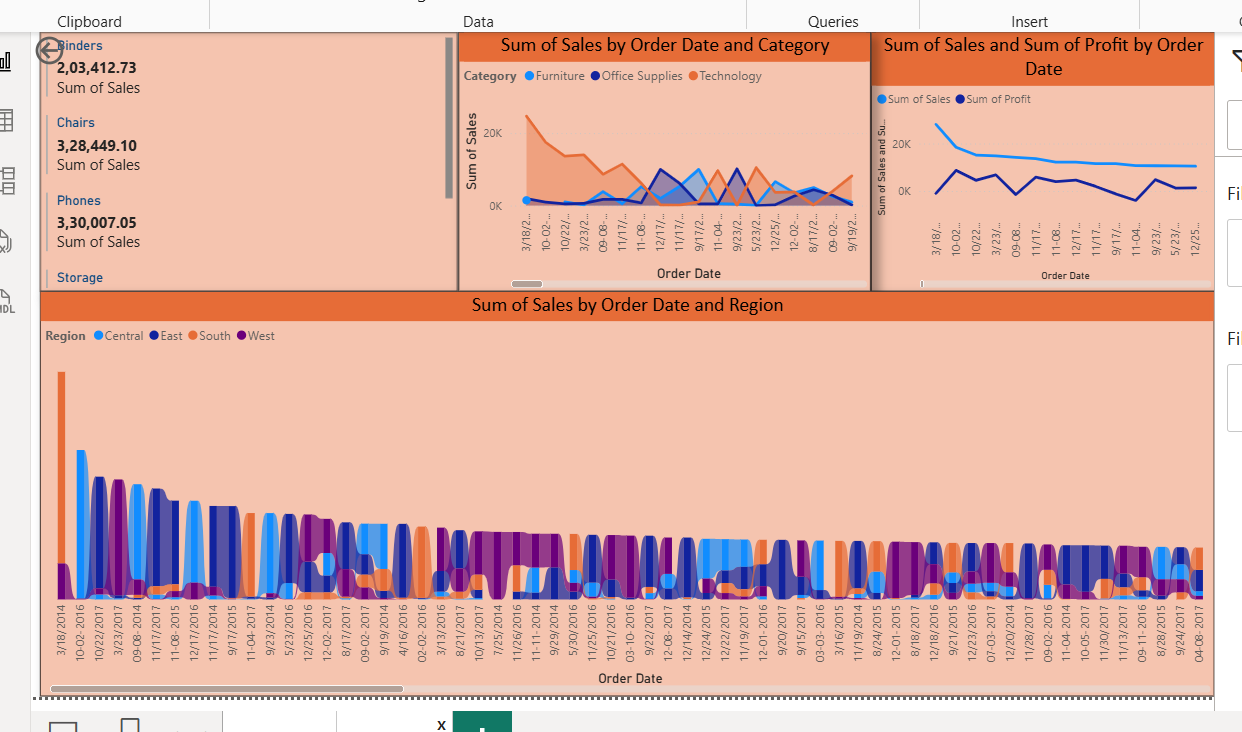

The page's visual inventory and layout, read from the dashboard file:
{"tool":"powerbi","page":{"name":"Page 2","canvas":[1280,720],"ordinal":1},"visuals":[{"type":"multiRowCard","fields":{"Values":["excel file.Sub-Category","Sum(excel file.Sales)"]},"box":[10,0,452.1,280.8],"z":0},{"type":"actionButton","box":[0,0,100,40],"z":1001},{"type":"lineChart","fields":{"Y":["Sum(excel file.Sales)","Sum(excel file.Profit)"],"Category":["excel file.Order Date"]},"box":[908.2,0,372.5,280.8],"z":1003},{"type":"areaChart","fields":{"Category":["excel file.Order Date"],"Series":["excel file.Category"],"Y":["Sum(excel file.Sales)"]},"box":[462.1,0,446.1,280.8],"z":1004},{"type":"ribbonChart","fields":{"Category":["excel file.Order Date"],"Y":["Sum(excel file.Sales)"],"Series":["excel file.Region"]},"box":[10,280.8,1270.7,438.2],"z":1005}]}

Visuals, with their boxes in screenshot pixels (x1, y1, x2, y2):
multiRowCard - excel file.Sub-Category x Sum(excel file.Sales): x1=38, y1=29, x2=456, y2=288
actionButton: x1=29, y1=29, x2=121, y2=66
lineChart - Sum(excel file.Sales) x Sum(excel file.Profit): x1=867, y1=29, x2=1211, y2=288
areaChart - excel file.Order Date x excel file.Category: x1=456, y1=29, x2=867, y2=288
ribbonChart - excel file.Order Date x Sum(excel file.Sales): x1=38, y1=288, x2=1211, y2=693
